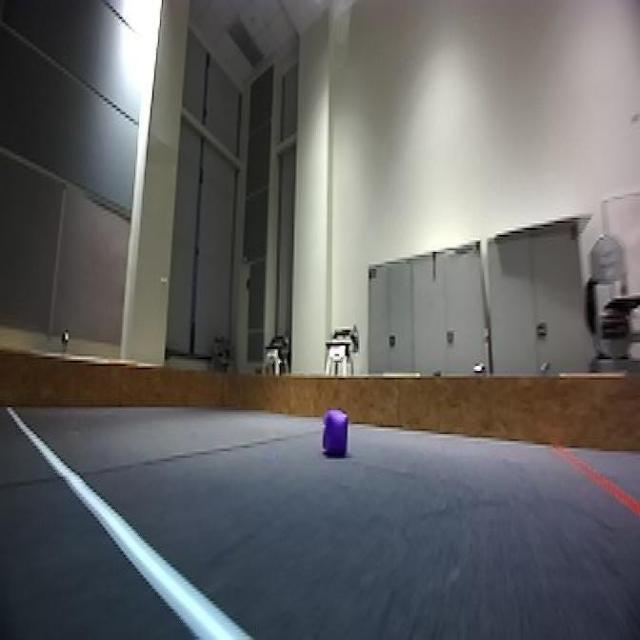frc_cube: (319, 403, 351, 458)
